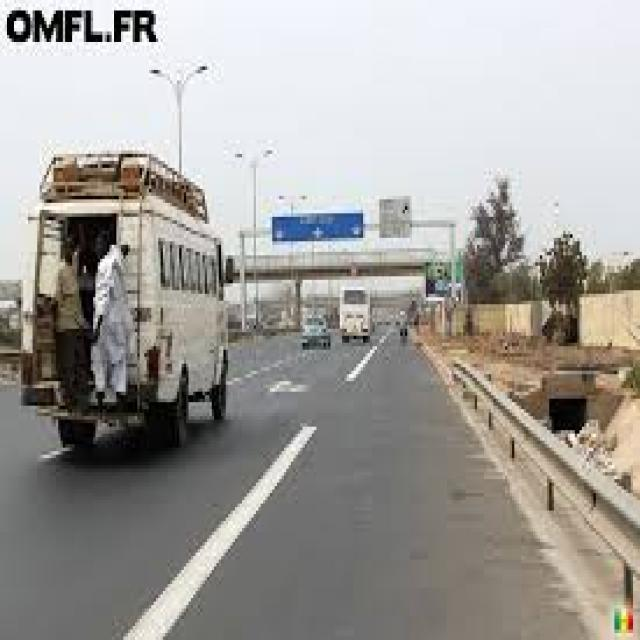bus tata: (340, 287, 372, 343)
ndiaga ndiaye: (24, 155, 226, 446)
particulier: (302, 317, 332, 350)
